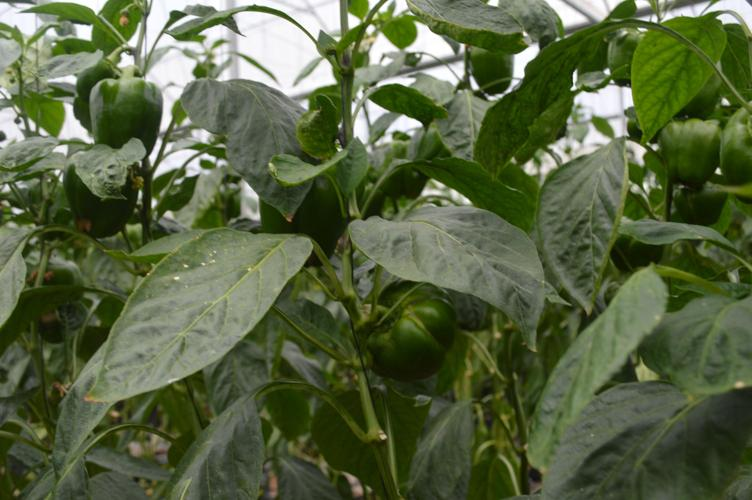BellPepper: (358, 281, 453, 383), (260, 176, 338, 266), (63, 159, 140, 243), (85, 79, 157, 147), (651, 113, 714, 185), (600, 26, 638, 88), (717, 120, 747, 185)
